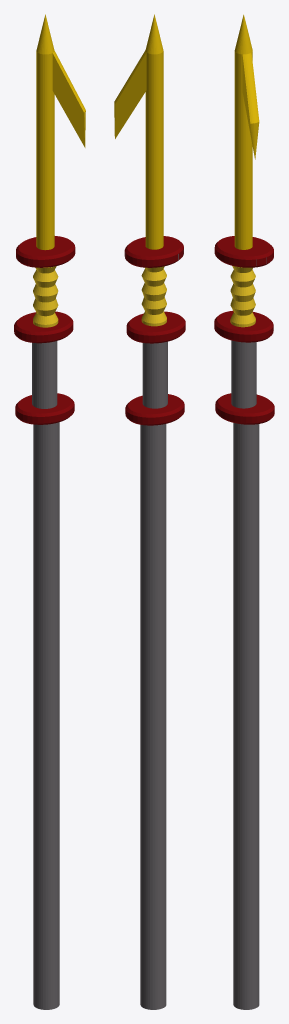
Rendered from Harpoon.fbx.
The picture shows the model from 3 angles, left to right: view 1: azimuth 30°, elevation 25°; view 2: azimuth 210°, elevation 25°; view 3: azimuth 330°, elevation 25°; orthographic projection.
Parts seen in each view (by area): view 1: Cylinder.005; view 2: Cylinder.005; view 3: Cylinder.005.
Boxes of the visible parts, x1,y1,x2,y2 form: Cylinder.005: [14, 14, 85, 1009]; Cylinder.005: [114, 14, 185, 1009]; Cylinder.005: [214, 14, 274, 1009].
Size of the model in its own units: 26.31 by 455 by 24.77.
